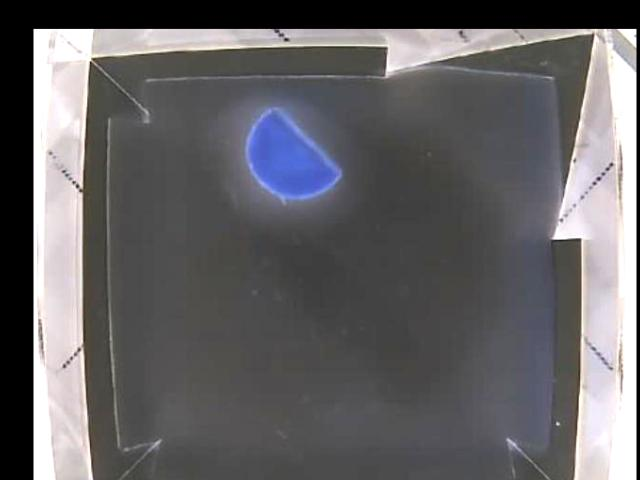Potato: (246, 108, 341, 205)
